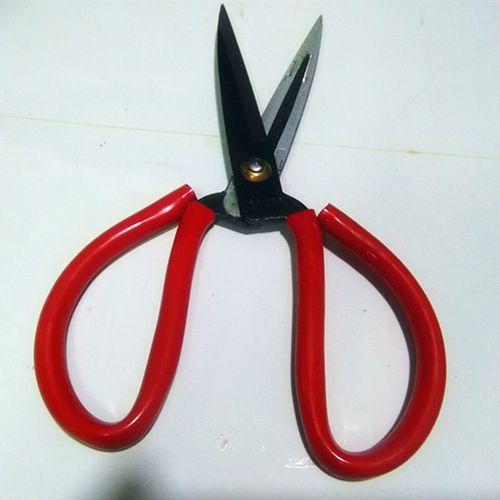scissor: (33, 3, 448, 484)
